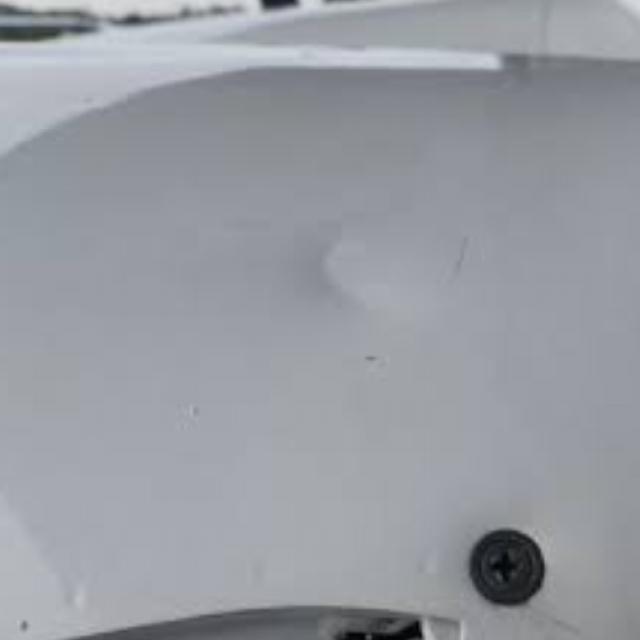dents: (294, 220, 398, 324)
